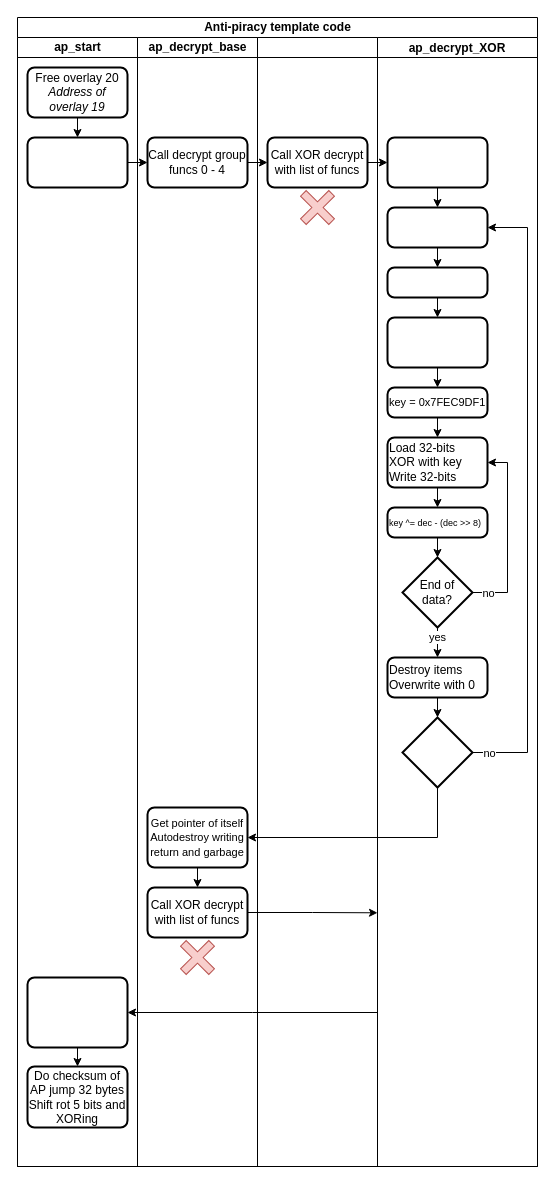
The diagram is 555 pixels wide and 1184 high, and some of its shapes have lost their labels. Each missing label, with the box of its shape:
ap_decrypt_funcs_X: (256, 36, 378, 1166)
Destroy the call Write 0 to 12 B previous of arg0: (386, 136, 488, 188)
End of items?: (401, 716, 473, 788)
item0: pointer item1: size: (386, 206, 488, 248)
Load overlay 19 Contains AP code: (26, 136, 128, 188)
pointer -= 0x2100: (386, 266, 488, 298)
size -= 0x215C1CC size -= 0x2100 size *= 16: (386, 316, 488, 368)
Write pass and fail funcs in global array in random order by frame. Save index.: (26, 976, 128, 1048)
